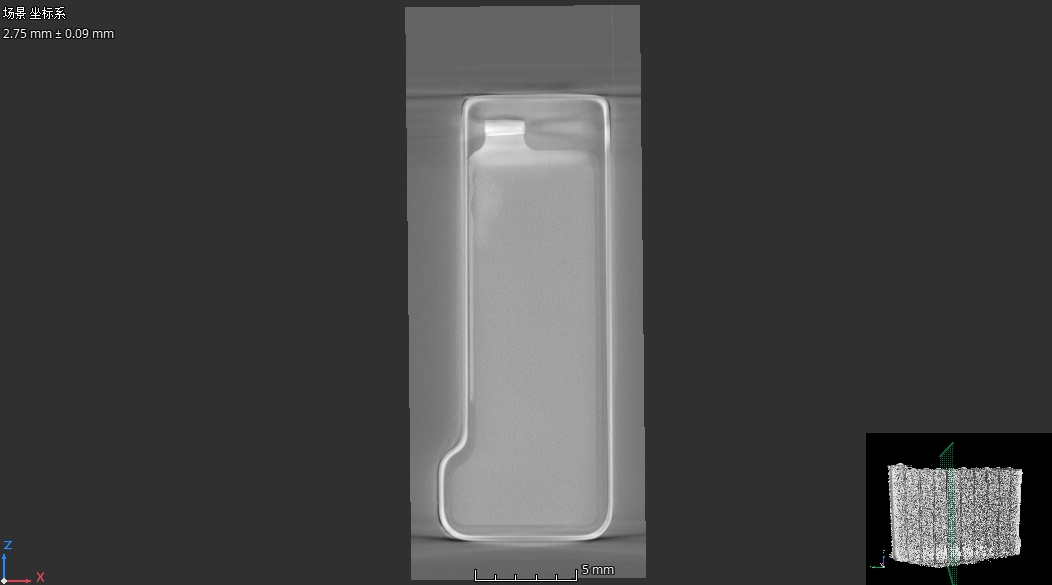damage: (467, 158, 480, 226)
